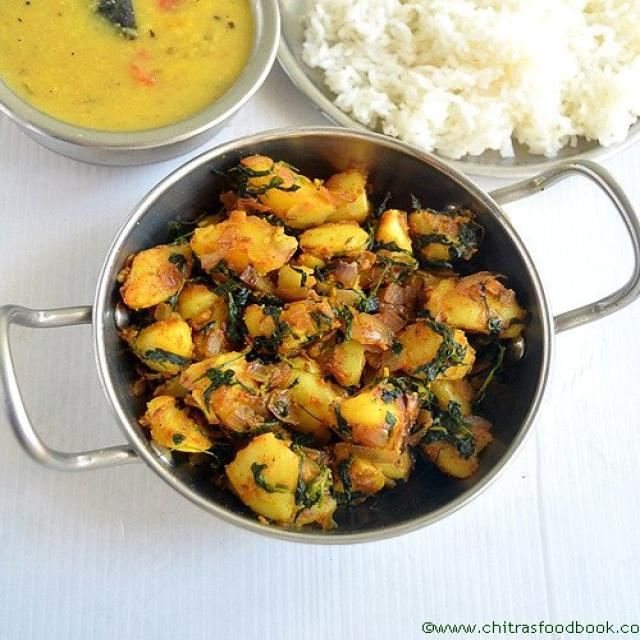Aloo Methi: (116, 148, 530, 518)
